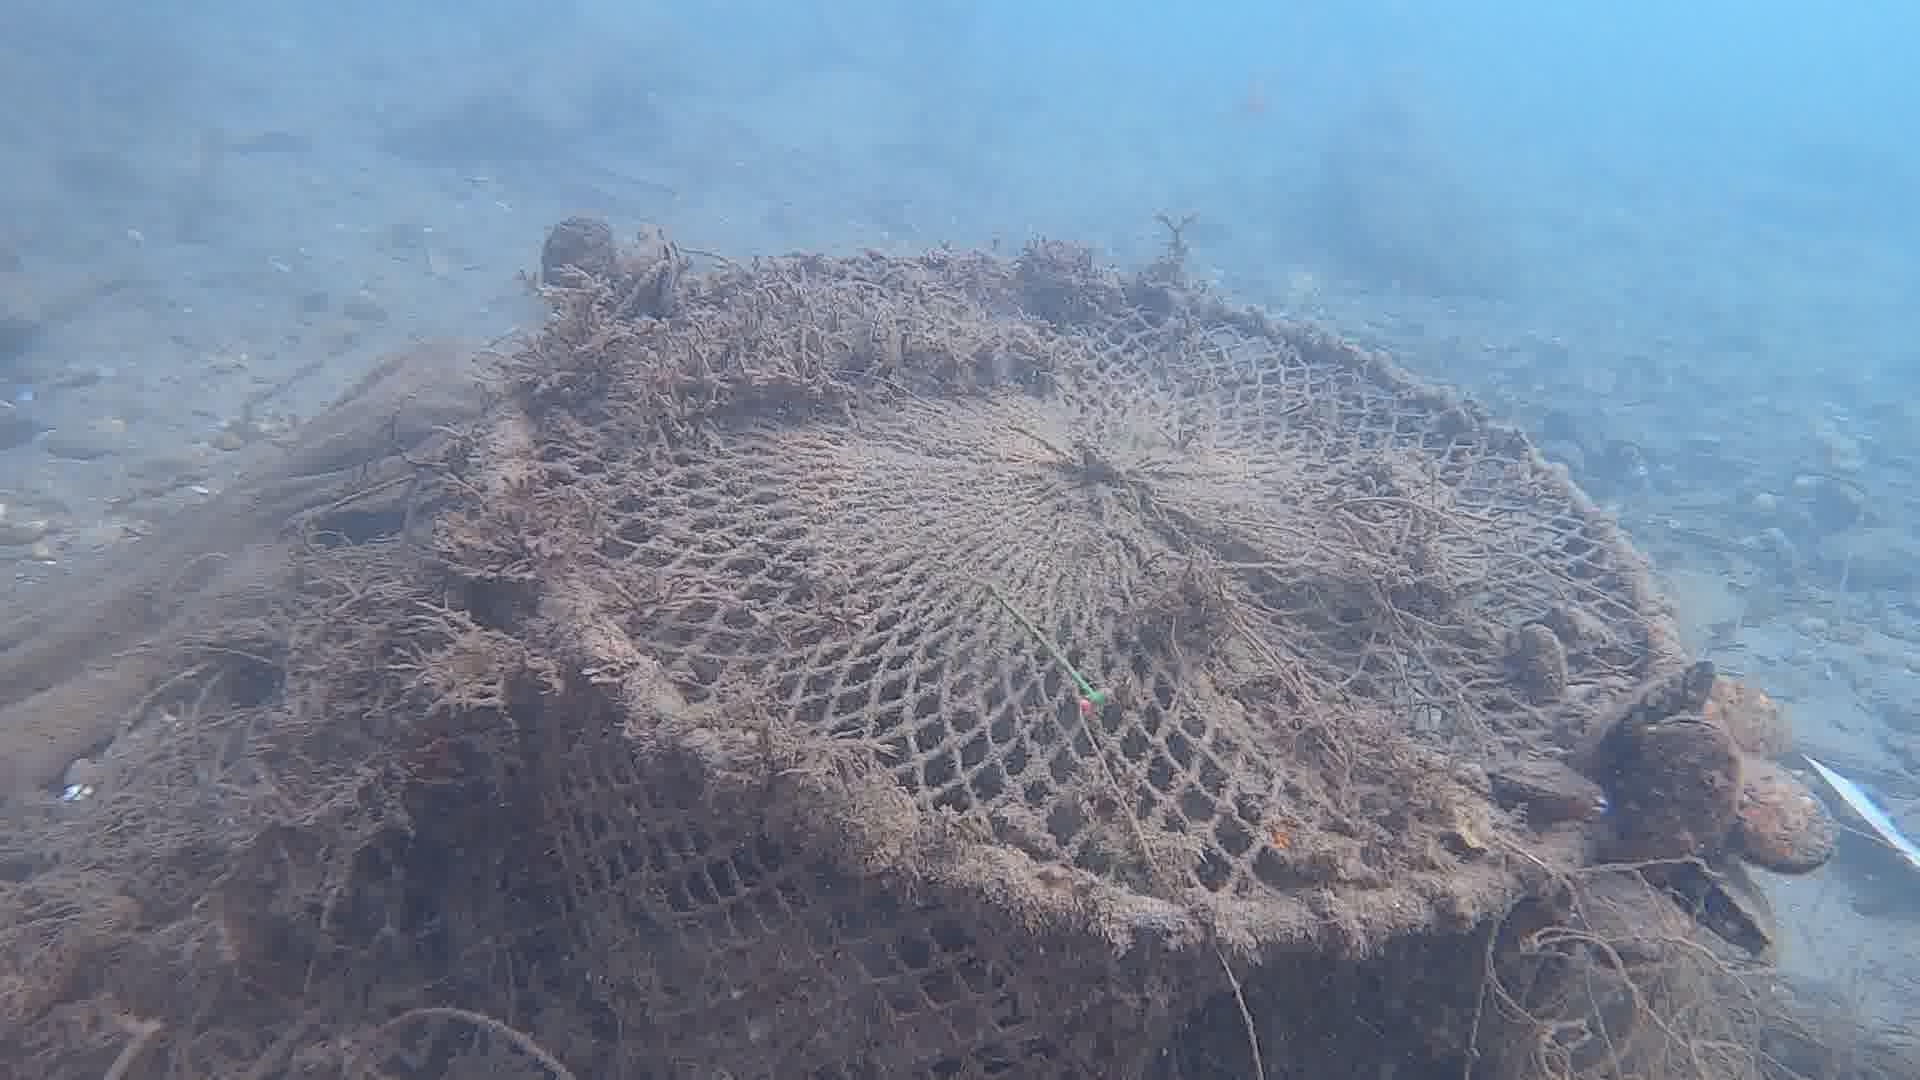circular fish trap: (471, 243, 1673, 1080)
